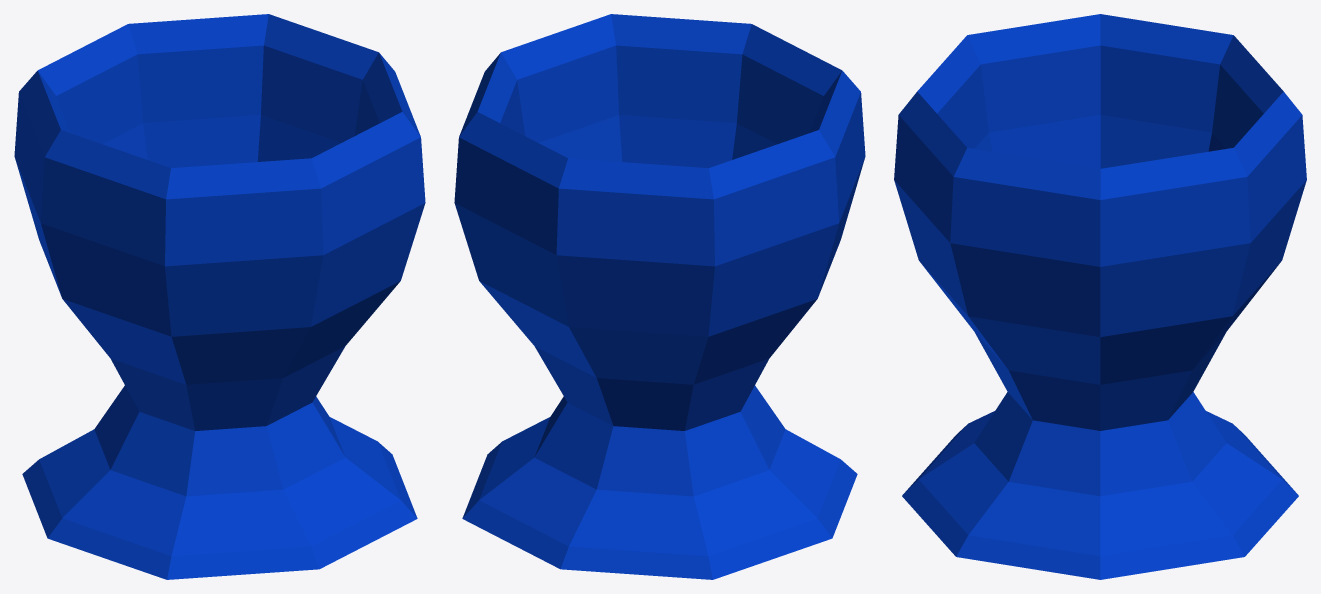
The model's file is bokal.obj.
The picture shows the model from 3 angles, left to right: view 1: azimuth 30°, elevation 25°; view 2: azimuth 150°, elevation 25°; view 3: azimuth 270°, elevation 25°; orthographic projection.
Visible parts, largest first — view 1: Cube; view 2: Cube; view 3: Cube.
Boxes of the visible parts, left/top/right/bottom form: Cube: left=14, top=14, right=425, bottom=579; Cube: left=454, top=14, right=865, bottom=579; Cube: left=894, top=14, right=1306, bottom=579.
Bounding box in the file's own units: 0.6827 × 0.7471 × 0.6827.
